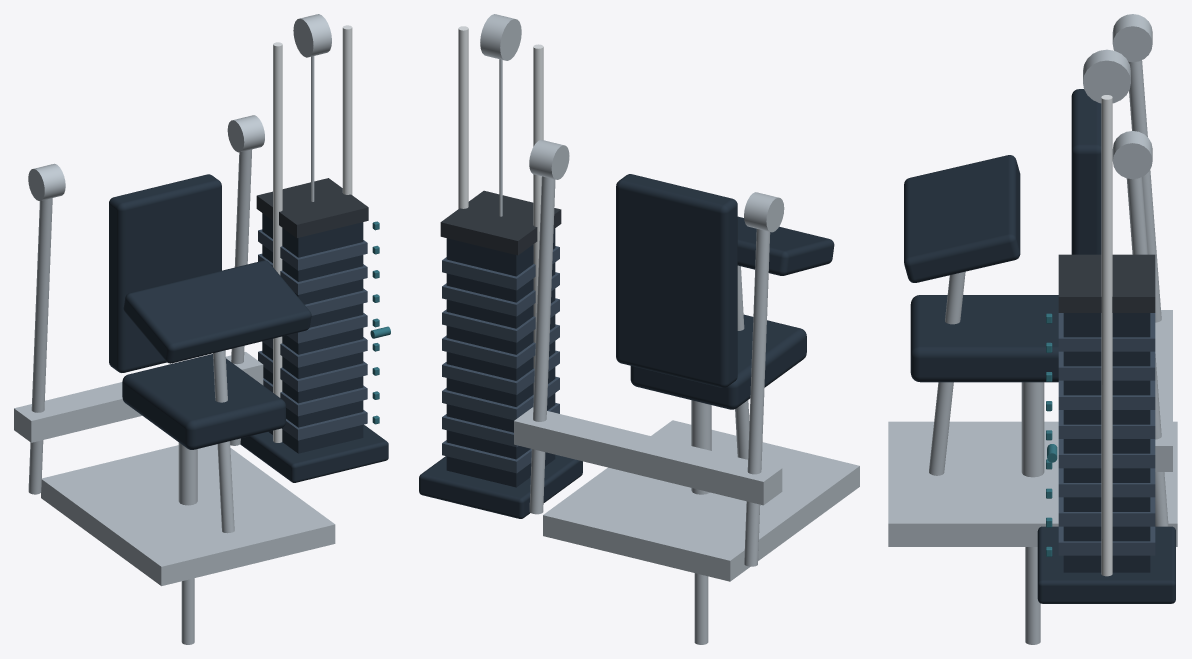
The model's file is triceps_machine.glb.
The picture shows the model from 3 angles, left to right: view 1: azimuth 30°, elevation 25°; view 2: azimuth 150°, elevation 25°; view 3: azimuth 270°, elevation 25°; orthographic projection. The views are drawn at different scales.
Visible parts, largest first — view 1: base, back, upperArmPad, seat, stack, weightPlate (×8), pivotBridge, guide (×2), stackBase, stackLift, Lsupport, padSupport (+7 smaller); view 2: back, base, weightPlate (×8), stack, pivotBridge, seat, stackBase, stackLift, Rsupport, Lsupport, guide (×2), upperArmPad (+7 smaller); view 3: base, seat, upperArmPad, weightPlate (×8), stack, stackBase, guide, stackLift, back, pivotBridge, padSupport, post (+6 smaller).
Part boxes in pixels (x1,y1,x2,y2): base: [41, 444, 335, 586]; back: [109, 174, 221, 372]; upperArmPad: [123, 260, 311, 363]; seat: [122, 354, 285, 449]; stack: [262, 213, 363, 453]; weightPlate (×8): [258, 229, 367, 440]; pivotBridge: [14, 352, 263, 442]; guide (×2): [273, 25, 352, 442]; stackBase: [240, 424, 388, 482]; stackLift: [256, 178, 368, 237]; Lsupport: [28, 198, 52, 494]; padSupport: [213, 350, 234, 533]; back: [616, 174, 737, 387]; base: [543, 420, 859, 581]; weightPlate (×8): [442, 246, 559, 473]; stack: [446, 228, 555, 487]; pivotBridge: [514, 407, 782, 505]; seat: [630, 314, 806, 409]; stackBase: [419, 454, 582, 518]; stackLift: [440, 190, 561, 255]; Rsupport: [529, 176, 555, 514]; Lsupport: [744, 229, 770, 566]; guide (×2): [458, 26, 543, 393]; upperArmPad: [737, 216, 834, 275]; base: [888, 421, 1177, 546]; seat: [910, 295, 1058, 382]; upperArmPad: [904, 155, 1020, 282]; weightPlate (×8): [1058, 313, 1155, 555]; stack: [1063, 313, 1150, 572]; stackBase: [1037, 526, 1175, 603]; guide: [1101, 95, 1112, 576]; stackLift: [1058, 254, 1155, 312]; back: [1071, 89, 1101, 254]; pivotBridge: [1155, 310, 1172, 471]; padSupport: [929, 271, 965, 475]; post: [1021, 382, 1044, 477].
Size of the model in its own units: 1.4 by 2.33 by 0.9.
